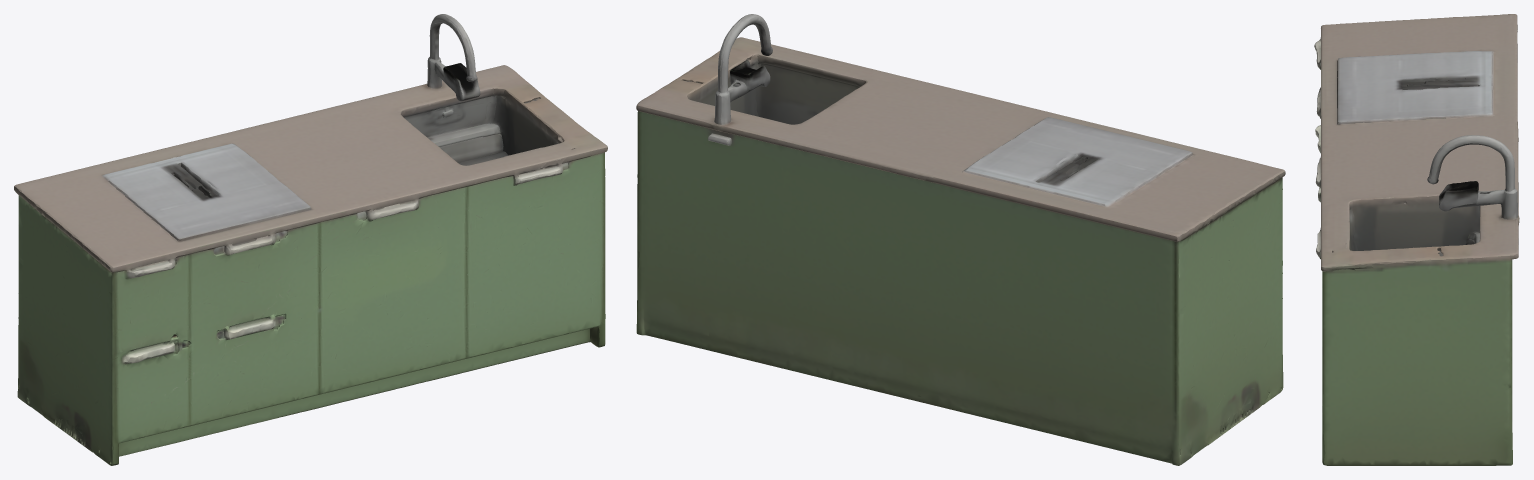
The model's file is item_a6adfe96.glb.
3 views of the same model, side by side, from view 1: azimuth 30°, elevation 25°; view 2: azimuth 150°, elevation 25°; view 3: azimuth 270°, elevation 25° (orthographic). The views are drawn at different scales.
Visible parts, largest first — view 1: world; view 2: world; view 3: world.
Boxes of the visible parts, box(x1,y1,x2,y2) form: world: box(14, 14, 607, 465); world: box(636, 14, 1285, 465); world: box(1314, 14, 1519, 465).
Bounding box in the file's own units: 2.4 × 1.35 × 0.8569.
Materials: 1 (1 with a texture image).
